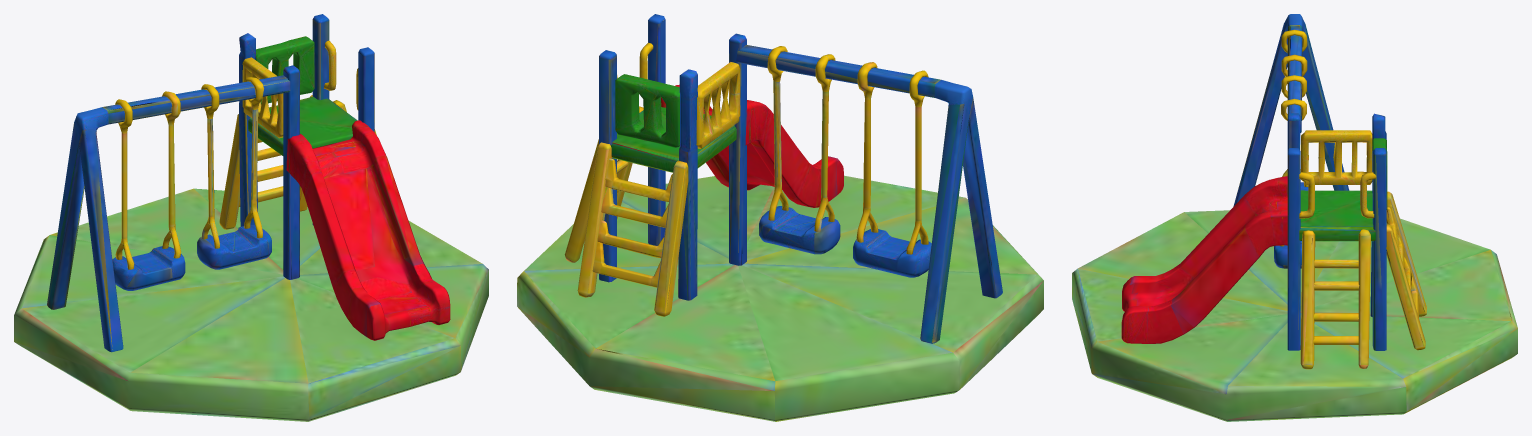
Rendered from 40-playground.glb.
3 views of the same model, side by side, from view 1: azimuth 30°, elevation 25°; view 2: azimuth 150°, elevation 25°; view 3: azimuth 270°, elevation 25° (orthographic). The views are drawn at different scales.
Visible parts, largest first — view 1: geometry_0; view 2: geometry_0; view 3: geometry_0.
Part boxes in pixels (x1,y1,x2,y2): geometry_0: [14, 14, 488, 421]; geometry_0: [517, 14, 1043, 421]; geometry_0: [1072, 14, 1517, 421].
Size of the model in its own units: 0.9424 by 0.5688 by 0.9497.
1 material, 1 textured.
